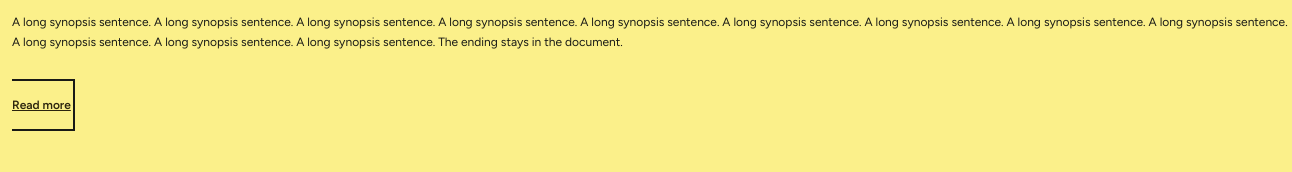
Synopsis › shows Read more for a clamped synopsis and toggles the label
Click the button "Read more" at (41, 105), box [12,83,71,127]
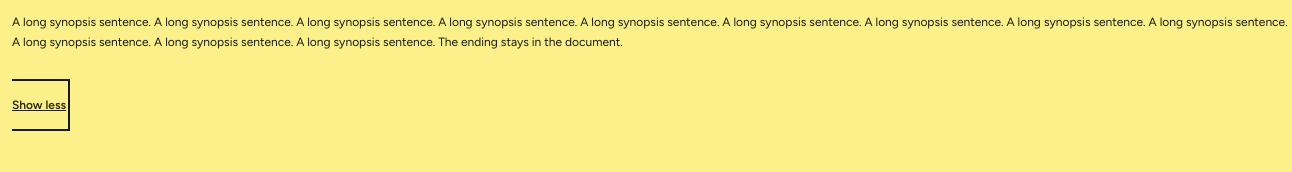
Now the button "Show less" is expanded
Now the button "Show less" is shown
Click the button "Show less" at (39, 105), box [12,83,66,127]
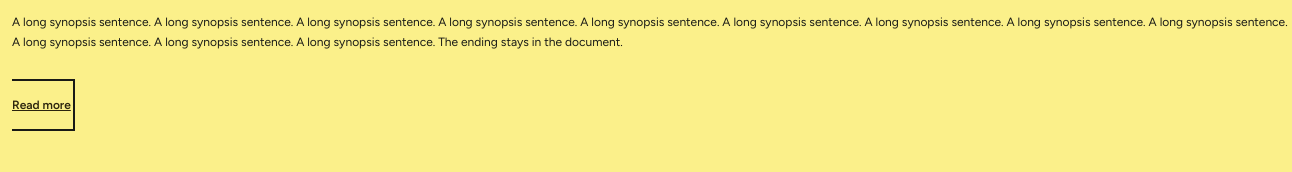
Now the button "Read more" is collapsed, box [12,83,71,127]
Now the button "Read more" is shown, box [12,83,71,127]
